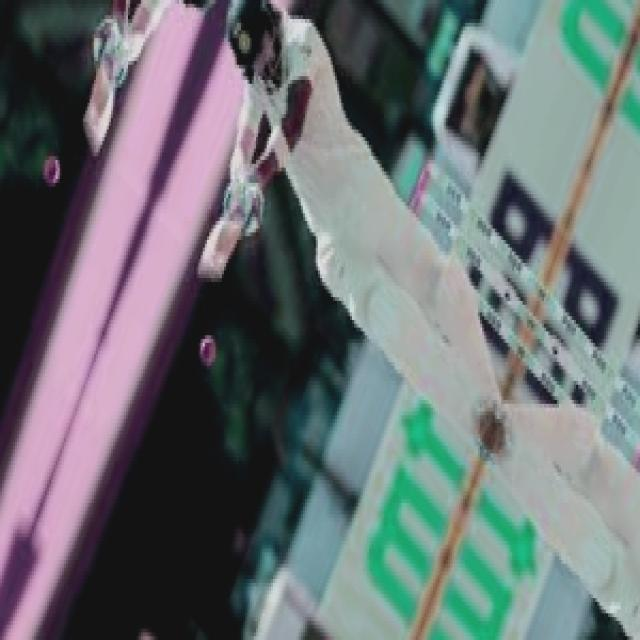toe: (192, 256, 232, 282)
